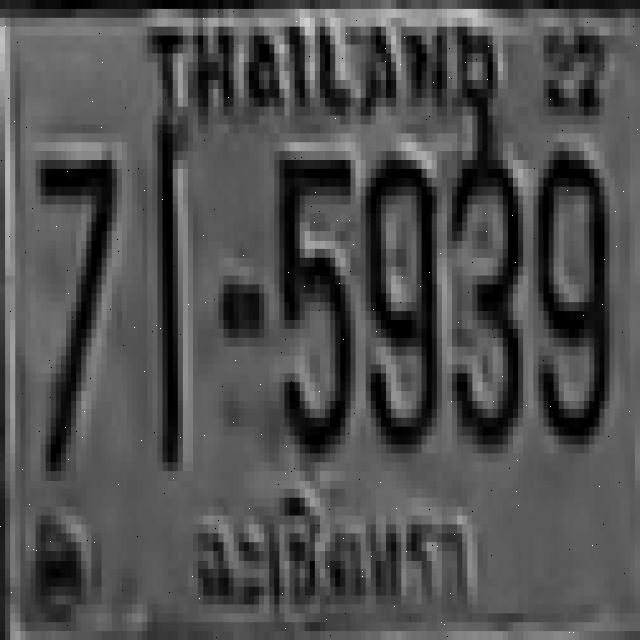3: (447, 143, 518, 444)
5: (274, 151, 350, 453)
7: (36, 151, 111, 471)
9: (534, 142, 610, 436), (361, 151, 436, 445)
Chachoengsao: (187, 484, 479, 630)
